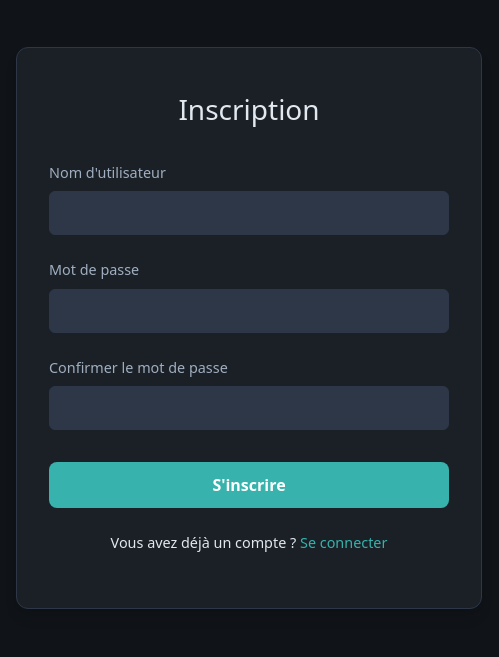
it: RegisterPage › devrait afficher une erreur si les mots de passe ne correspondent pas
// Simulation de la saisie avec des mots de passe différents
Step 1. Type "newuser" into the field labelled "Nom d'utilisateur" → (249,213), box [49,191,449,235]
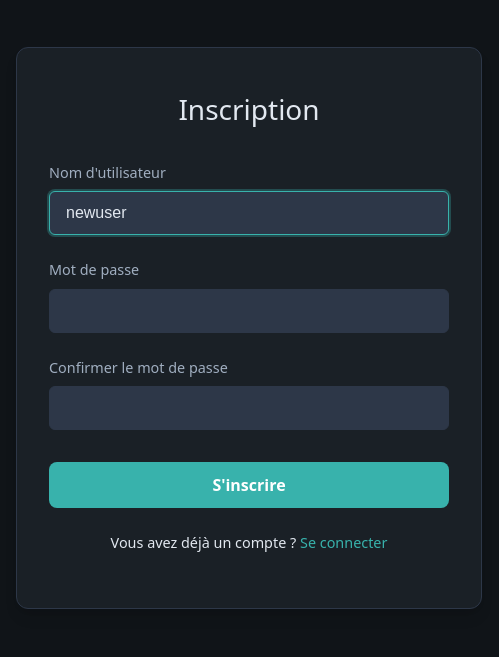
Step 2. Type "password123" into the password field labelled "Mot de passe" → (249,311), box [49,289,449,333]
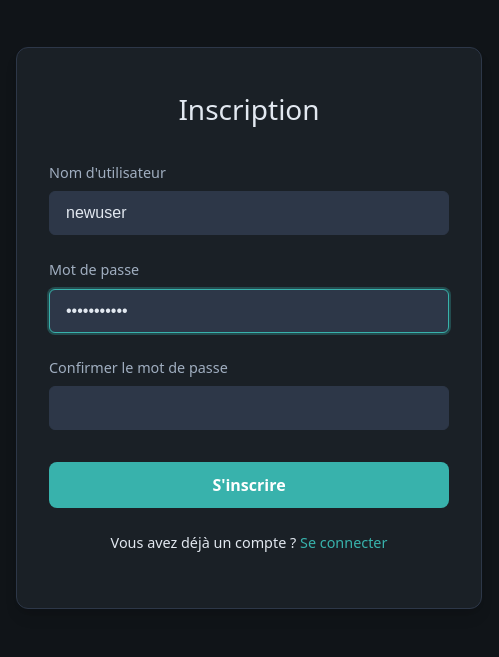
Step 3. Type "password456" into the password field labelled "Confirmer le mot de passe" → (249,408), box [49,386,449,430]
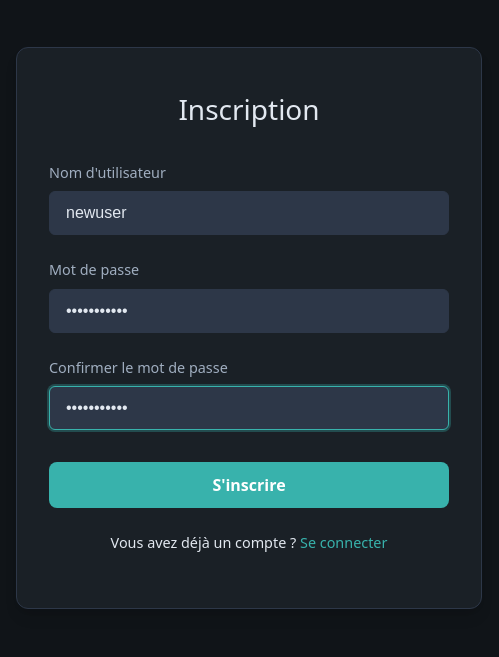
// Simulation du clic sur le bouton
Step 4. Click the button "S'inscrire" → (249,485), box [49,462,449,508]
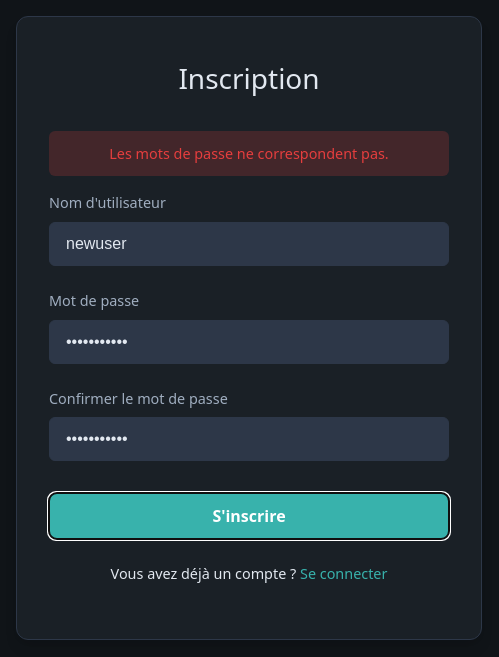
Check: the text "Les mots de passe ne correspondent pas." is shown, box [49,131,449,176]
